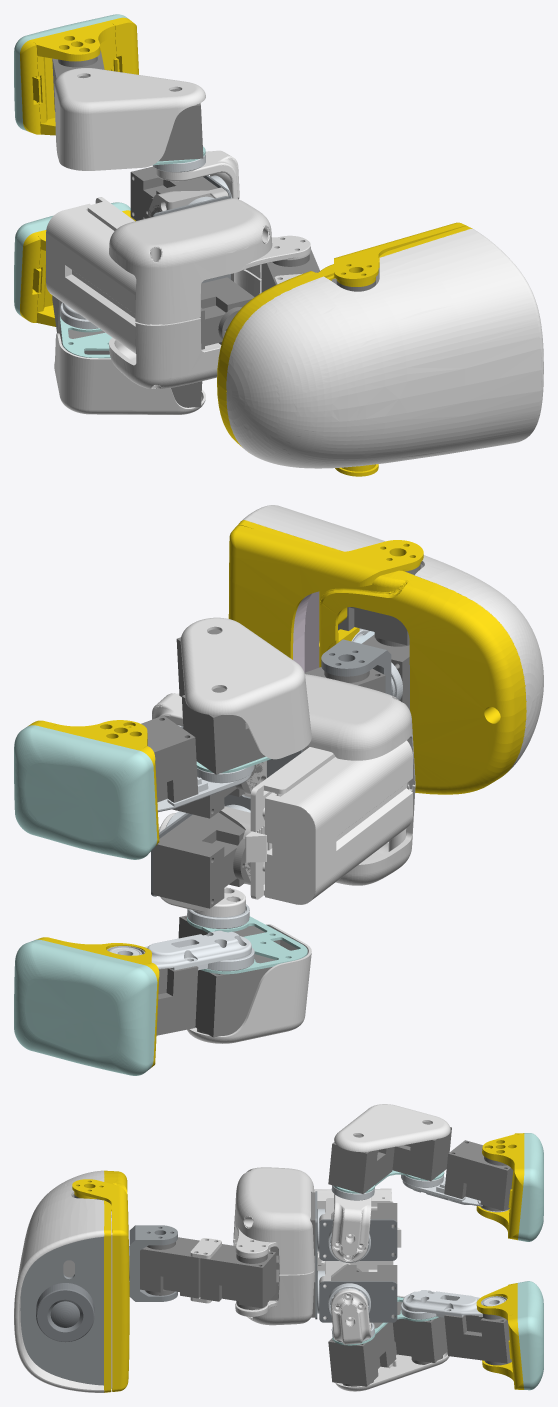
The model's file is microduck_scale_figure.glb.
3 views of the same model, one above another, from view 1: azimuth 30°, elevation 25°; view 2: azimuth 150°, elevation 25°; view 3: azimuth 270°, elevation 25° (orthographic). The views are drawn at different scales.
Visible parts, largest first — view 1: microduck_42, microduck_8, microduck_16, microduck_6, microduck_1, microduck_62, microduck_26, microduck_24, microduck_49, microduck_48, microduck_7, microduck_11 (+12 smaller); view 2: microduck_49, microduck_6, microduck_67, microduck_23, microduck_16, microduck_48, microduck_42, microduck_8, microduck_54, microduck_62, microduck_59, microduck_5 (+21 smaller); view 3: microduck_38, microduck_8, microduck_42, microduck_48, microduck_28, microduck_16, microduck_22, microduck_29, microduck_64, microduck_63, microduck_67, microduck_1 (+25 smaller).
Boxes of the visible parts, box(x1,y1,x2,y2) form: microduck_42: box(226, 229, 543, 468); microduck_8: box(109, 198, 310, 324); microduck_16: box(54, 68, 205, 170); microduck_6: box(46, 203, 137, 353); microduck_1: box(109, 269, 261, 388); microduck_62: box(54, 333, 205, 414); microduck_26: box(34, 23, 116, 135); microduck_24: box(20, 17, 138, 134); microduck_49: box(217, 226, 472, 447); microduck_48: box(334, 222, 467, 476); microduck_7: box(200, 277, 254, 349); microduck_11: box(130, 166, 217, 220); microduck_49: box(237, 520, 526, 794); microduck_6: box(265, 740, 412, 904); microduck_67: box(14, 939, 157, 1075); microduck_23: box(14, 725, 157, 859); microduck_16: box(180, 617, 311, 759); microduck_48: box(228, 525, 423, 659); microduck_42: box(242, 505, 543, 774); microduck_8: box(305, 674, 415, 789); microduck_54: box(153, 812, 250, 908); microduck_62: box(187, 924, 311, 1043); microduck_59: box(195, 954, 275, 1037); microduck_5: box(245, 747, 335, 899); microduck_38: box(20, 1236, 103, 1385); microduck_8: box(233, 1167, 314, 1274); microduck_42: box(14, 1170, 104, 1392); microduck_48: box(72, 1179, 129, 1391); microduck_28: box(200, 1244, 276, 1309); microduck_16: box(334, 1104, 450, 1152); microduck_22: box(444, 1140, 513, 1211); microduck_29: box(140, 1237, 200, 1298); microduck_64: box(444, 1313, 511, 1365); microduck_63: box(328, 1322, 396, 1386); microduck_67: box(517, 1281, 543, 1390); microduck_1: box(233, 1238, 314, 1325).
Bounding box in the file's own units: 0.1227 × 0.1421 × 0.2716.
